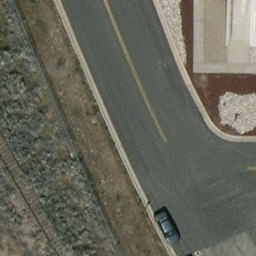car: (153, 208, 182, 247)
